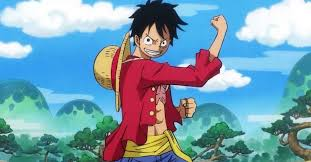luffy: (91, 1, 191, 114)
